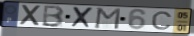6: (126, 8, 149, 32)
B: (41, 5, 66, 29)
C: (151, 11, 174, 31)
M: (93, 7, 123, 31)
X: (70, 6, 96, 29), (19, 4, 43, 27)
